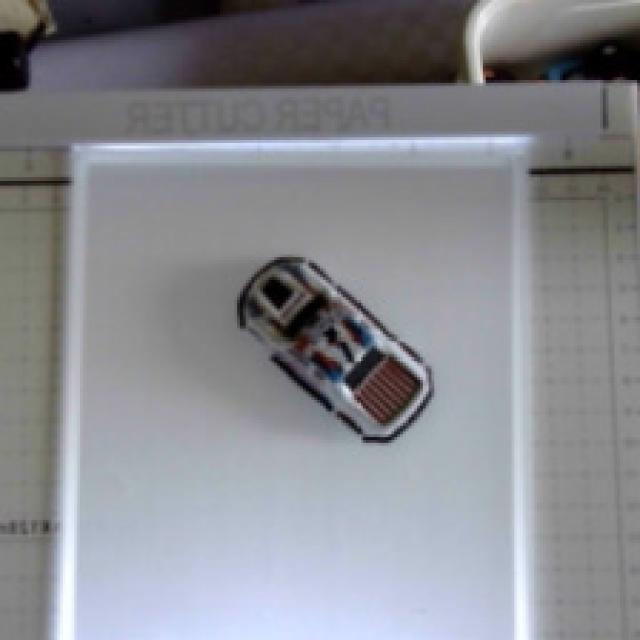Grey Car: (199, 207, 487, 472)
